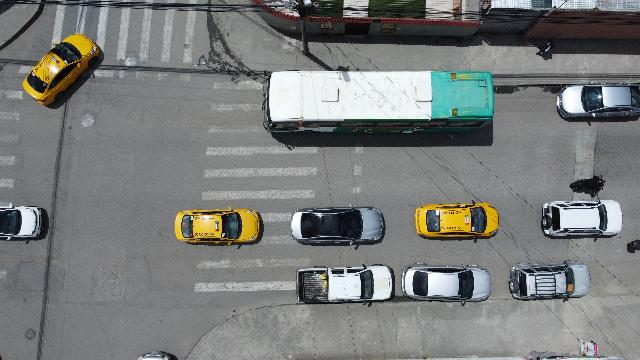Vehiculo: (22, 33, 104, 105), (296, 264, 396, 304), (291, 204, 385, 246), (401, 264, 491, 304), (509, 260, 591, 302), (415, 200, 499, 240), (542, 198, 622, 240), (175, 207, 261, 246), (556, 82, 640, 120), (0, 204, 48, 242)
